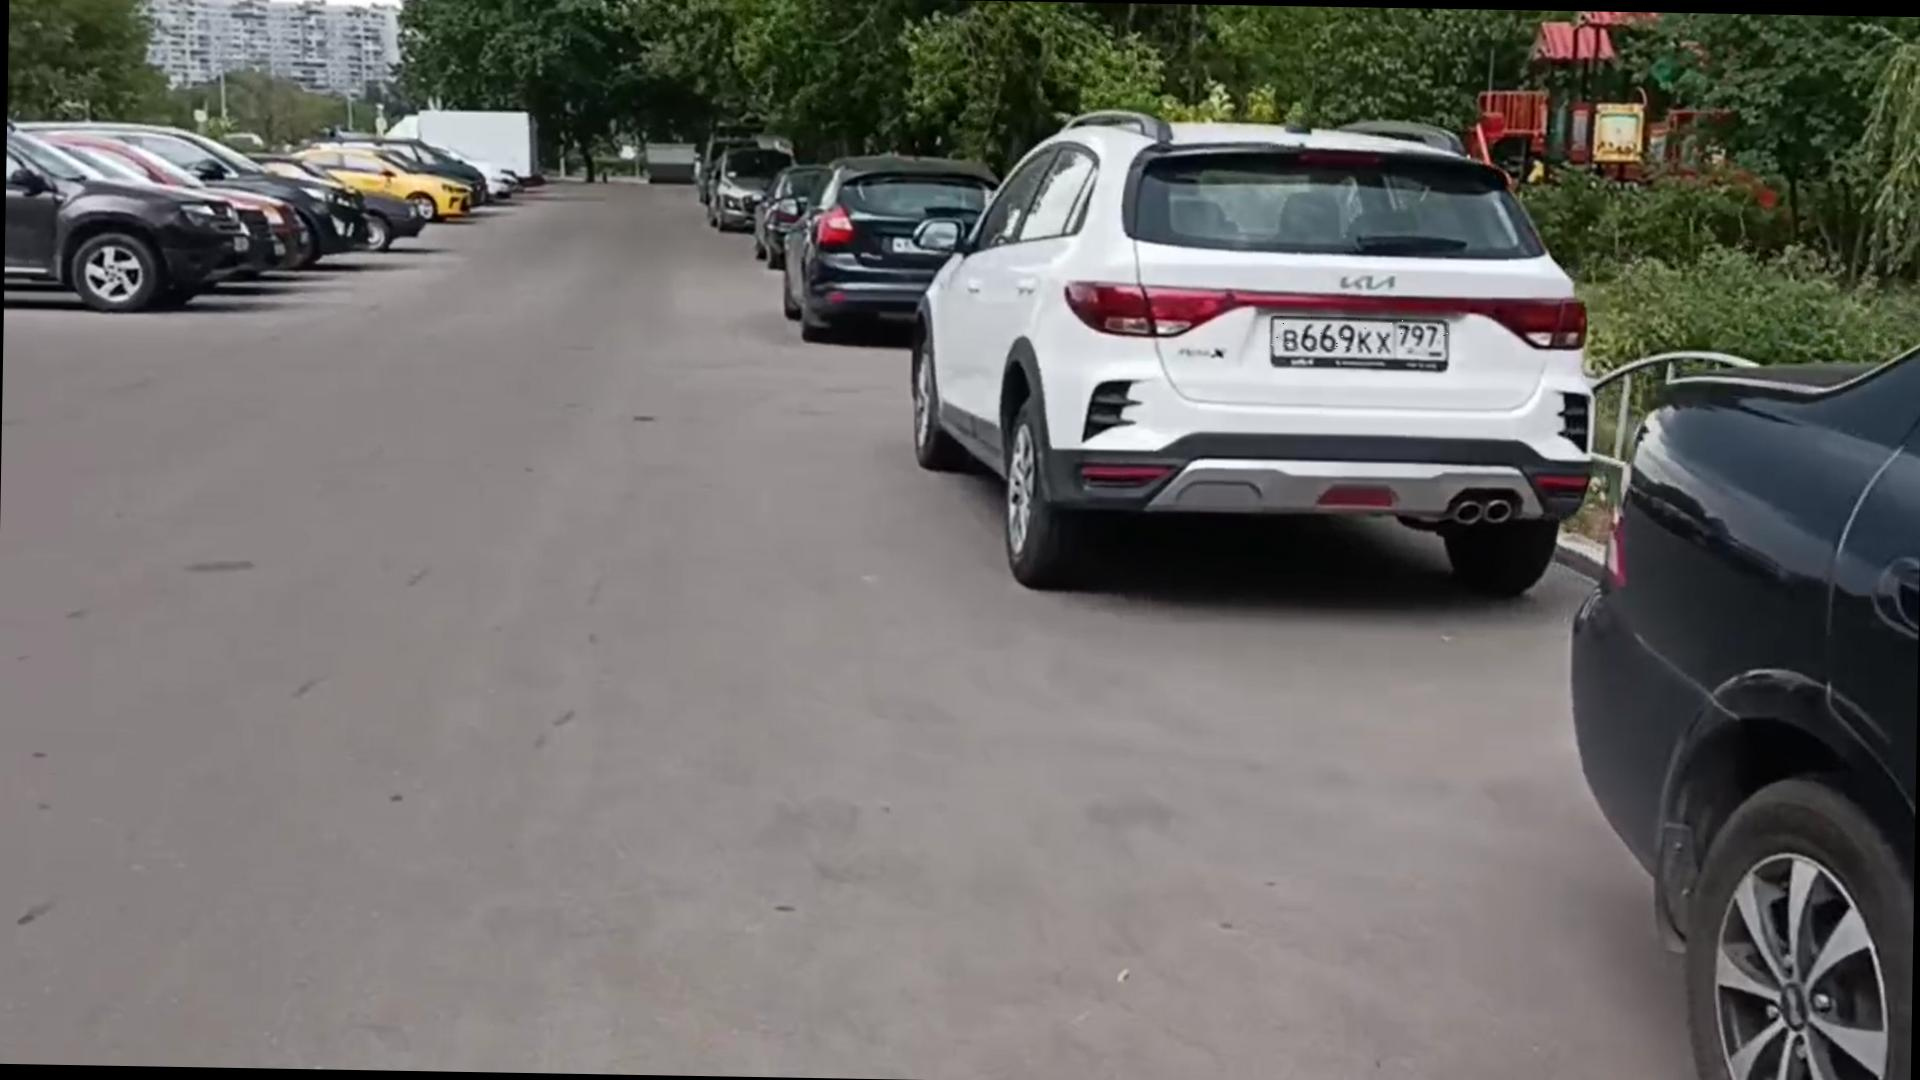plate: (1272, 318, 1450, 352)
